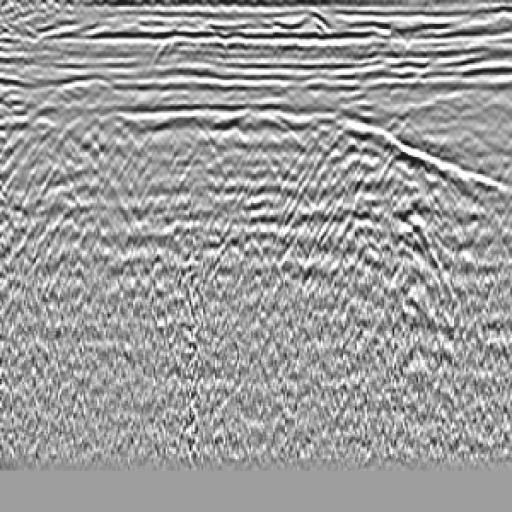non-metallic: (272, 92, 454, 352)
